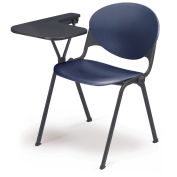desk: (6, 8, 164, 175)
